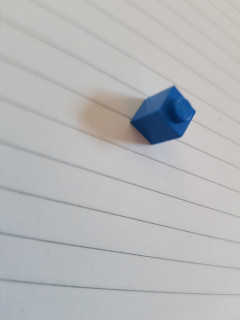1x1 blue: (130, 86, 196, 145)
